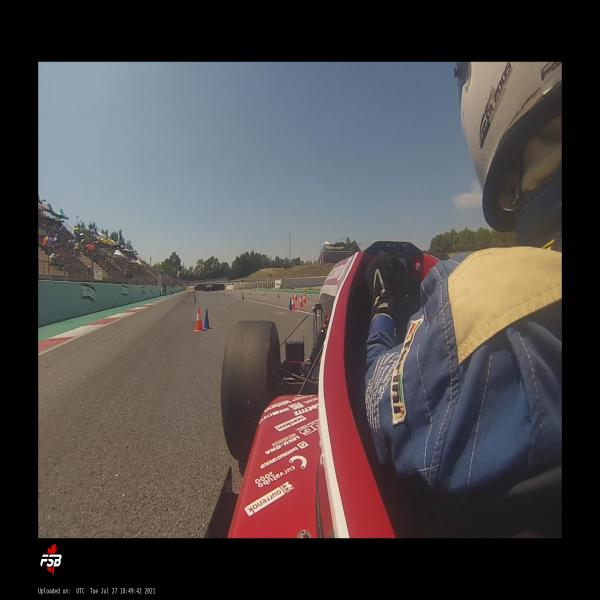orange_cone: (193, 308, 204, 332), (292, 297, 296, 310), (299, 295, 303, 308), (294, 292, 298, 302), (303, 294, 306, 303), (278, 292, 280, 298), (249, 290, 251, 295), (263, 291, 264, 296)
unknown_cone: (204, 308, 212, 330), (289, 298, 291, 310), (242, 294, 244, 300), (194, 297, 196, 303), (194, 292, 195, 297)
